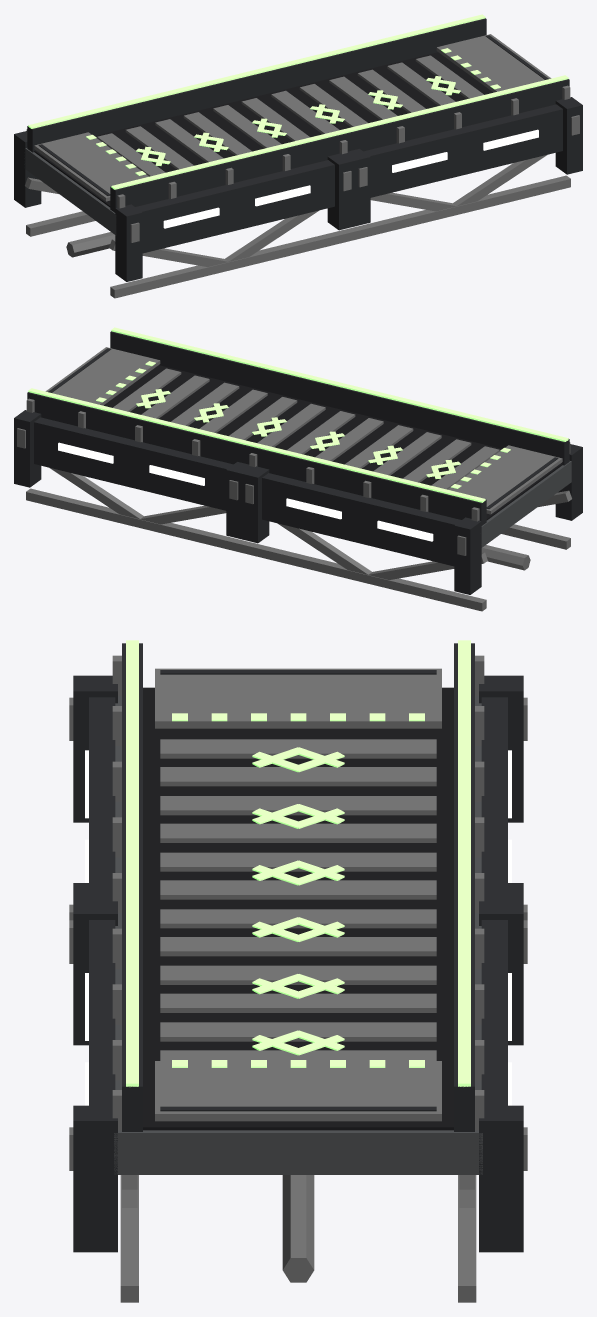
Rendered from Deck_Conveyor_Belt_v4_8.glb.
3 renders of one model, top to bottom at view 1: azimuth 30°, elevation 25°; view 2: azimuth 150°, elevation 25°; view 3: azimuth 270°, elevation 25°, orthographic. The views are drawn at different scales.
Visible parts, largest first — view 1: Deck_Conveyor_Belt_v4_8, Treads, TreadsRev; view 2: Deck_Conveyor_Belt_v4_8, Treads, TreadsRev; view 3: Deck_Conveyor_Belt_v4_8, Treads, TreadsRev.
Boxes of the visible parts, left/top/right/bottom form: Deck_Conveyor_Belt_v4_8: left=14, top=14, right=582, bottom=298; Treads: left=101, top=55, right=484, bottom=175; TreadsRev: left=97, top=56, right=481, bottom=176; Deck_Conveyor_Belt_v4_8: left=14, top=327, right=582, bottom=611; Treads: left=112, top=368, right=494, bottom=489; TreadsRev: left=114, top=369, right=499, bottom=489; Deck_Conveyor_Belt_v4_8: left=69, top=640, right=527, bottom=1302; Treads: left=160, top=739, right=436, bottom=1060; TreadsRev: left=160, top=739, right=436, bottom=1060.
Size of the model in its own units: 8.05 by 1.83 by 3.48.
